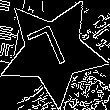L_SE: (29, 22, 77, 81)
